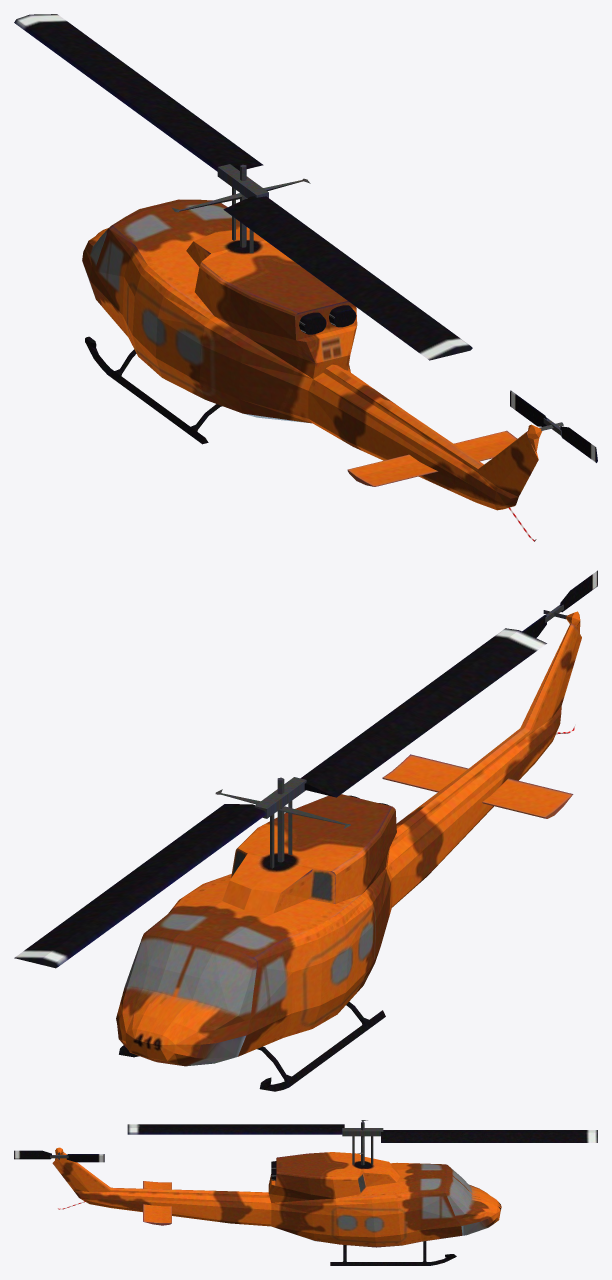
Rendered from bell212.glb.
3 renders of one model, top to bottom at view 1: azimuth 30°, elevation 25°; view 2: azimuth 150°, elevation 25°; view 3: azimuth 270°, elevation 25°, orthographic. The views are drawn at different scales.
Visible parts, largest first — view 1: Bell204_0; view 2: Bell204_0; view 3: Bell204_0.
Boxes of the visible parts, x1,y1,x2,y2 form: Bell204_0: [14, 14, 597, 541]; Bell204_0: [14, 570, 597, 1091]; Bell204_0: [14, 1120, 597, 1265].
Bounding box in the file's own units: 0.6329 × 0.9012 × 3.82.
Materials: 1 (1 with a texture image).
